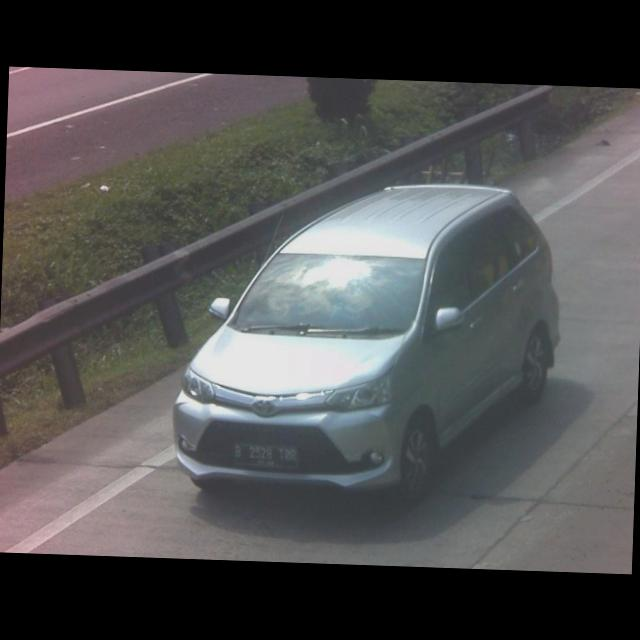plate: (232, 440, 298, 470)
